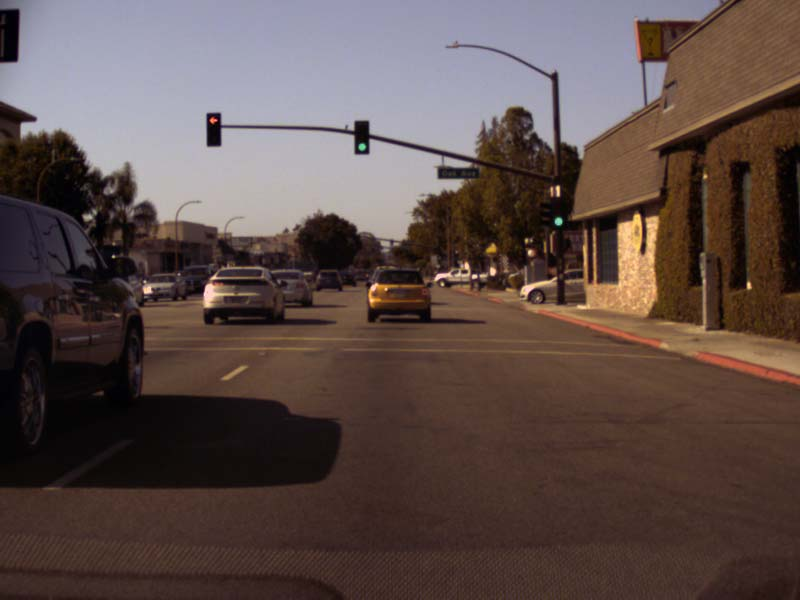Green: (355, 120, 369, 153), (552, 200, 565, 228)
Red: (206, 112, 220, 145)
